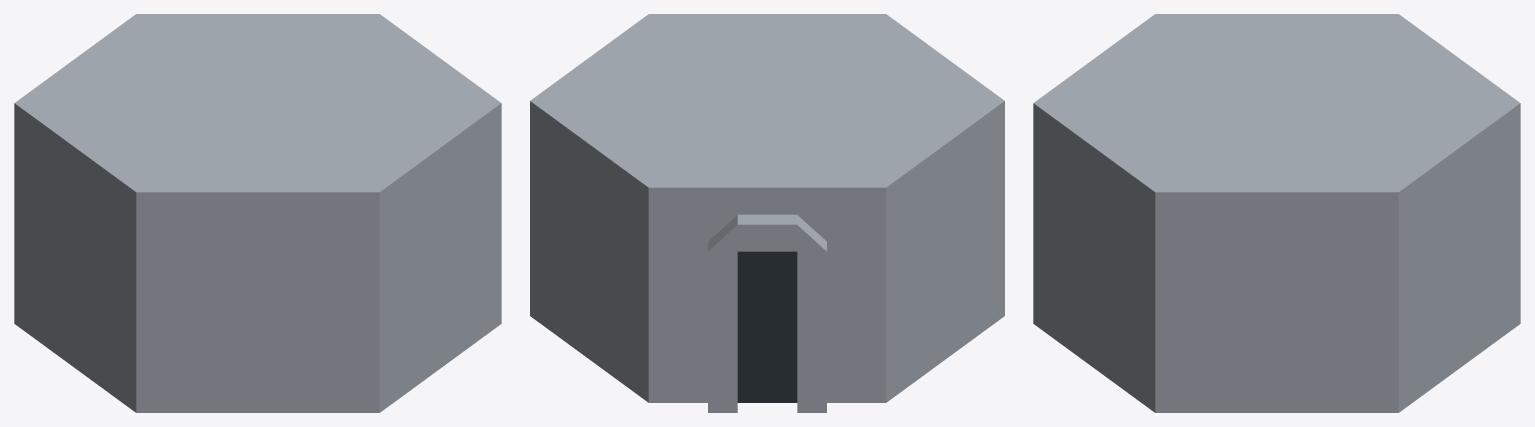
File: door2.fbx
3 views of the same model, side by side, from view 1: azimuth 30°, elevation 25°; view 2: azimuth 150°, elevation 25°; view 3: azimuth 270°, elevation 25° (orthographic). The views are drawn at different scales.
Visible parts, largest first — view 1: Cylinder; view 2: Cylinder; view 3: Cylinder.
Part boxes in pixels (x1,y1,x2,y2): Cylinder: (14, 14, 501, 412); Cylinder: (530, 14, 1004, 412); Cylinder: (1033, 14, 1520, 412).
Bounding box in the file's own units: 1.73 × 1 × 2.
